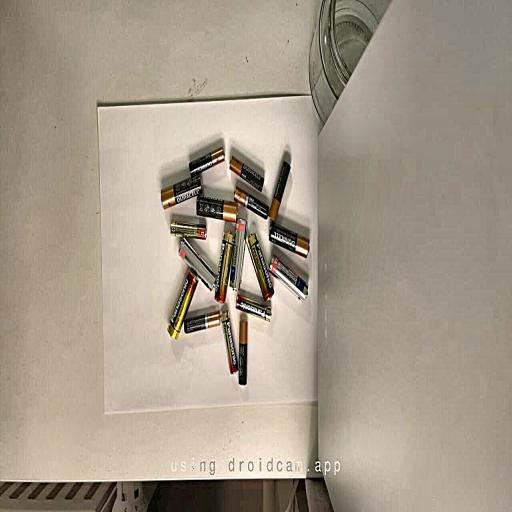DuracellAA: (269, 221, 309, 257), (161, 176, 202, 208), (196, 195, 237, 222)
DuracellAAA: (269, 162, 290, 220), (230, 156, 264, 191), (234, 187, 269, 219), (189, 146, 224, 176), (185, 311, 220, 333), (238, 316, 248, 385)
PanasonicAA: (168, 267, 198, 338), (247, 233, 274, 300), (215, 231, 234, 303)
PanasonicAAA: (221, 310, 238, 373), (236, 294, 271, 321), (170, 222, 206, 239)
RainbowAA: (178, 238, 216, 290), (268, 254, 308, 301), (230, 217, 246, 290)
